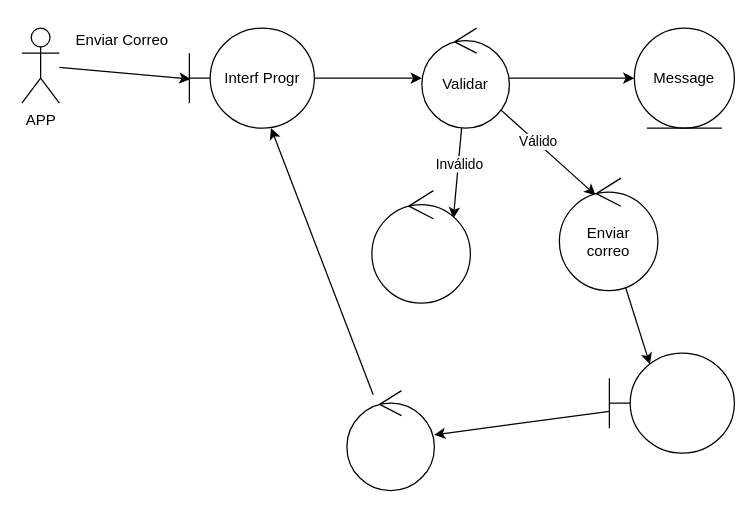
The diagram is 756 pixels wide and 513 high, and some of its shapes have lost their labels. Each missing label, with the box of its shape:
API: (608, 352, 734, 453)
MailException: (371, 189, 470, 303)
Verificar Resp: (346, 389, 434, 491)
